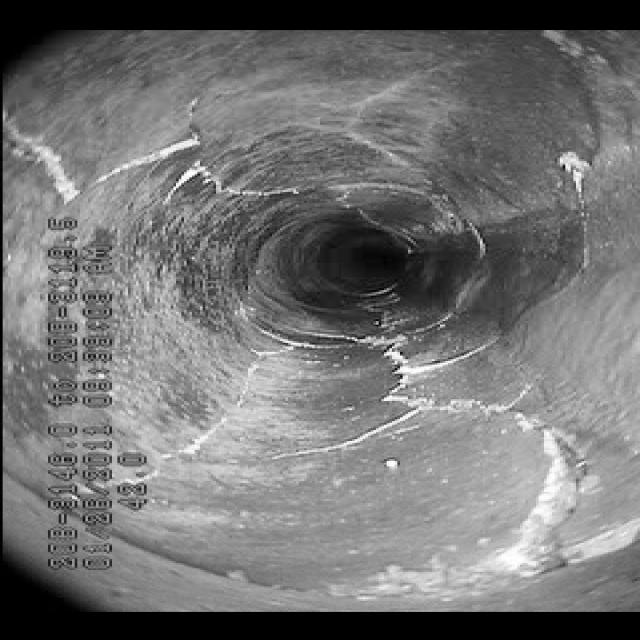Fracture: (399, 351, 618, 558), (35, 124, 304, 205), (157, 350, 287, 458)
